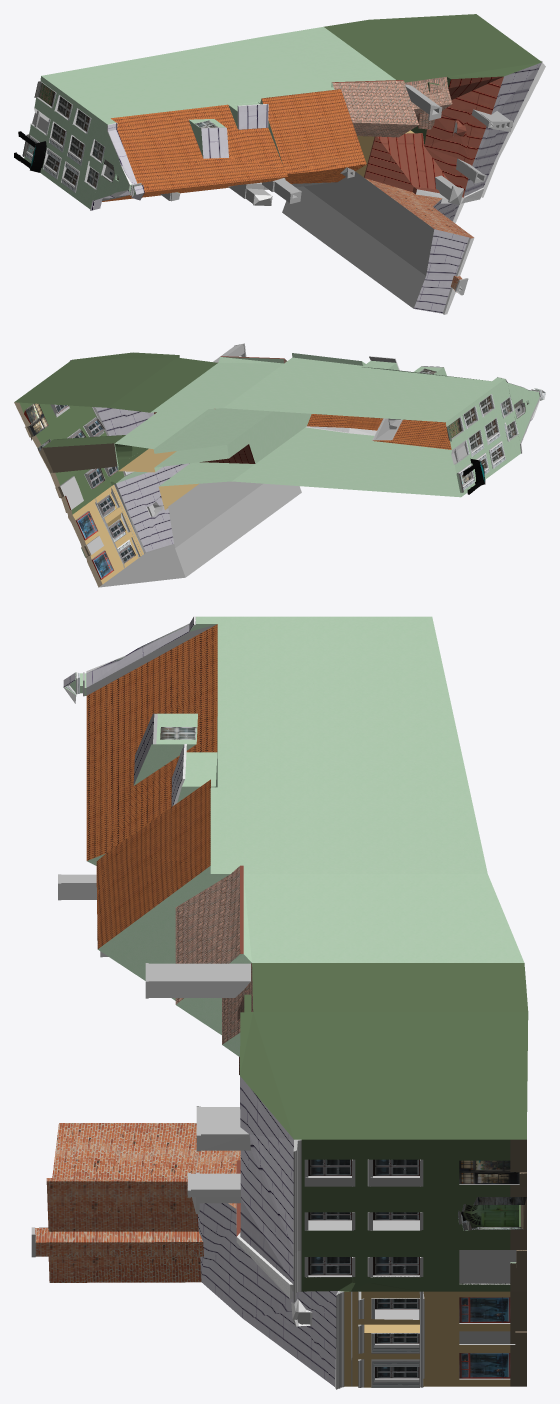
Rendered from Raekoja_plats_16-origo.obj.
The picture shows the model from 3 angles, top to bottom: view 1: azimuth 30°, elevation 25°; view 2: azimuth 150°, elevation 25°; view 3: azimuth 270°, elevation 25°; orthographic projection. The views are drawn at different scales.
Parts seen in each view (by area): view 1: Raekoja_plats_16; view 2: Raekoja_plats_16; view 3: Raekoja_plats_16.
Part boxes in pixels (left/top/right/bottom): Raekoja_plats_16: left=14, top=14, right=545, bottom=314; Raekoja_plats_16: left=14, top=343, right=545, bottom=587; Raekoja_plats_16: left=31, top=616, right=528, bottom=1389.
Size of the model in its own units: 51.31 by 25.5 by 25.28.
